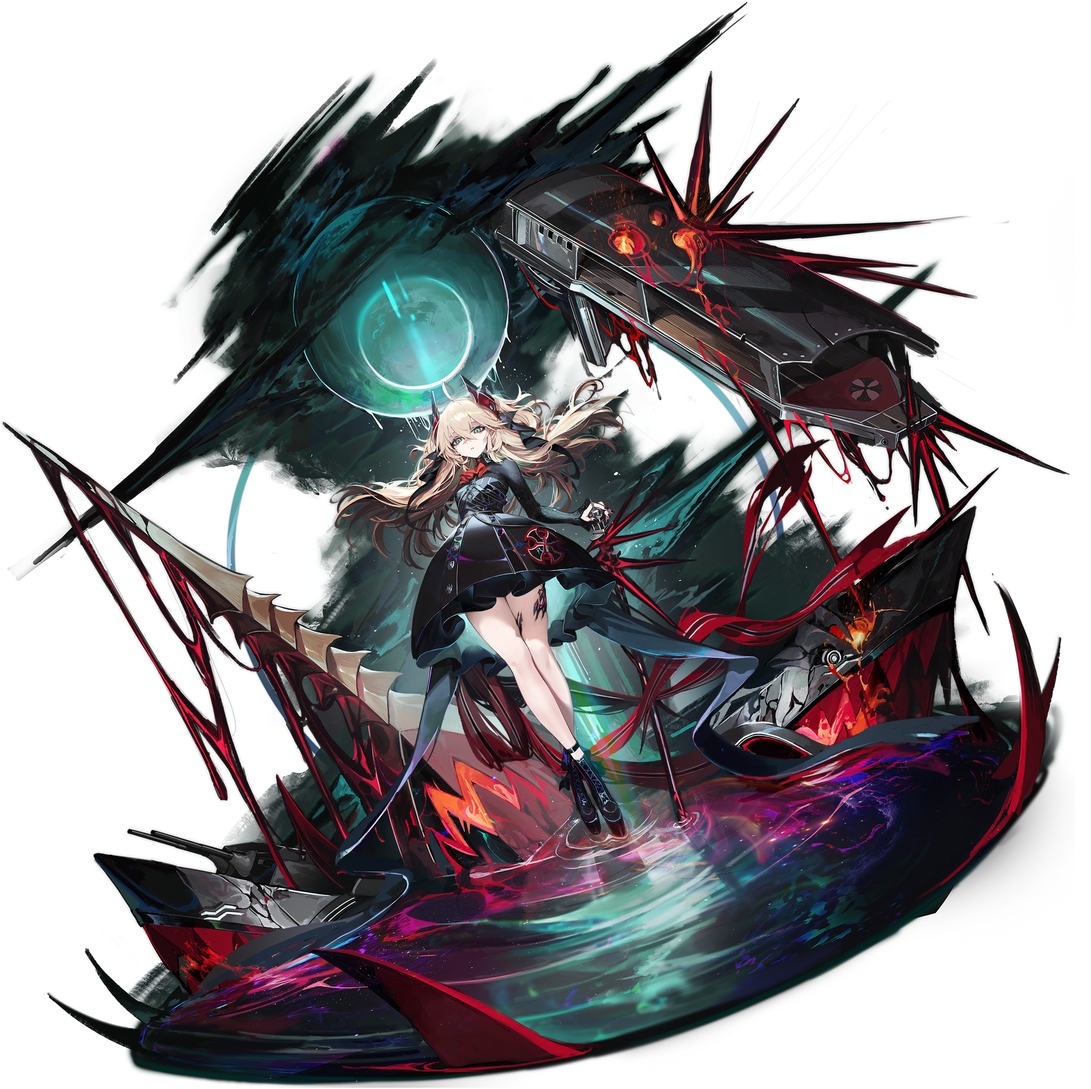person: (338, 359, 669, 898)
